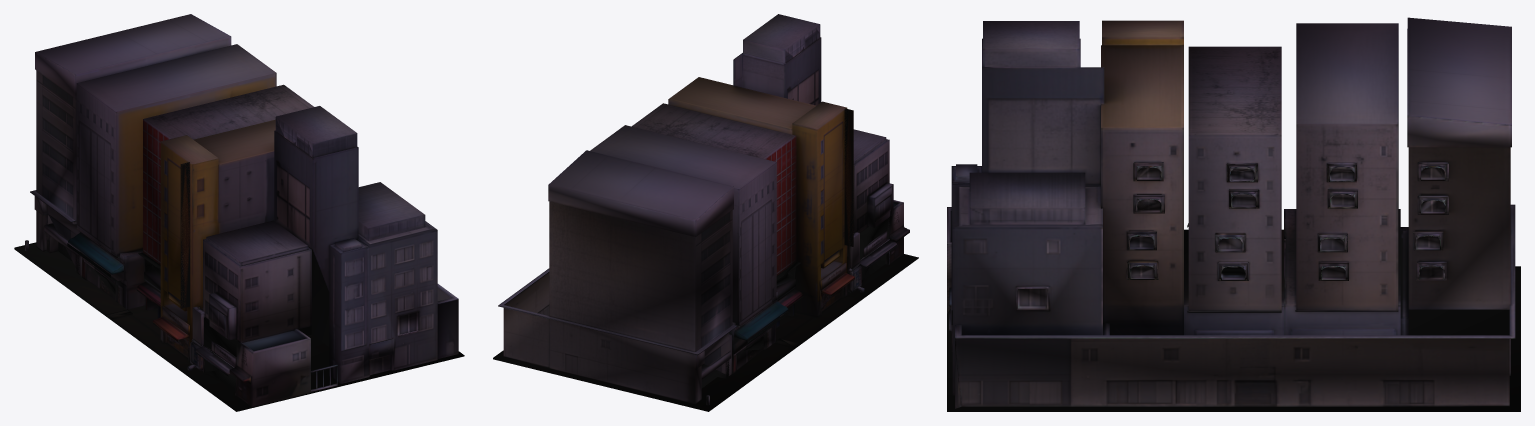
The model's file is BG_BUILDING.glb.
3 renders of one model, left to right at view 1: azimuth 30°, elevation 25°; view 2: azimuth 150°, elevation 25°; view 3: azimuth 270°, elevation 25°, orthographic. The views are drawn at different scales.
Visible parts, largest first — view 1: tripo_node_4bae5984-e7fd-4e13-b2cc-a0c2456c2ee1.001; view 2: tripo_node_4bae5984-e7fd-4e13-b2cc-a0c2456c2ee1.001; view 3: tripo_node_4bae5984-e7fd-4e13-b2cc-a0c2456c2ee1.001.
Part boxes in pixels (x1,y1,x2,y2): tripo_node_4bae5984-e7fd-4e13-b2cc-a0c2456c2ee1.001: [14, 14, 464, 411]; tripo_node_4bae5984-e7fd-4e13-b2cc-a0c2456c2ee1.001: [493, 14, 918, 411]; tripo_node_4bae5984-e7fd-4e13-b2cc-a0c2456c2ee1.001: [947, 17, 1520, 411].
Size of the model in its own units: 34.08 by 33.62 by 57.46.
1 material, 1 textured.
